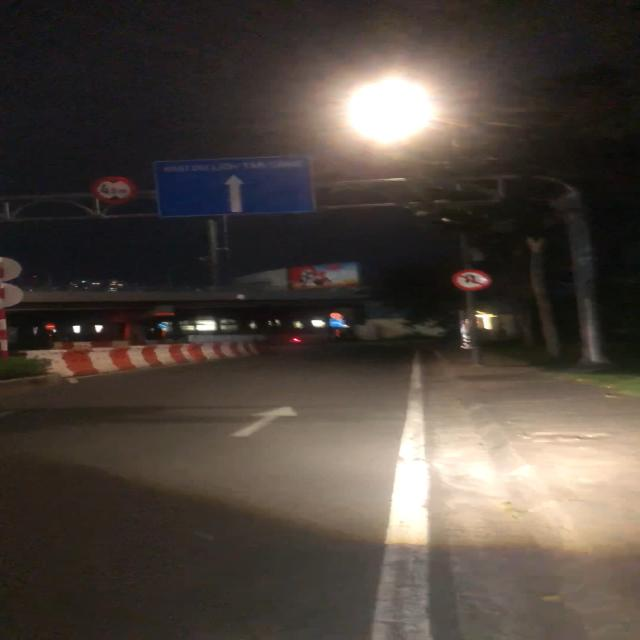Bien bao han che chieu cao: (88, 176, 138, 204)
